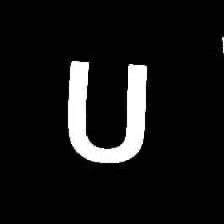LTR_U: (59, 50, 150, 169)
